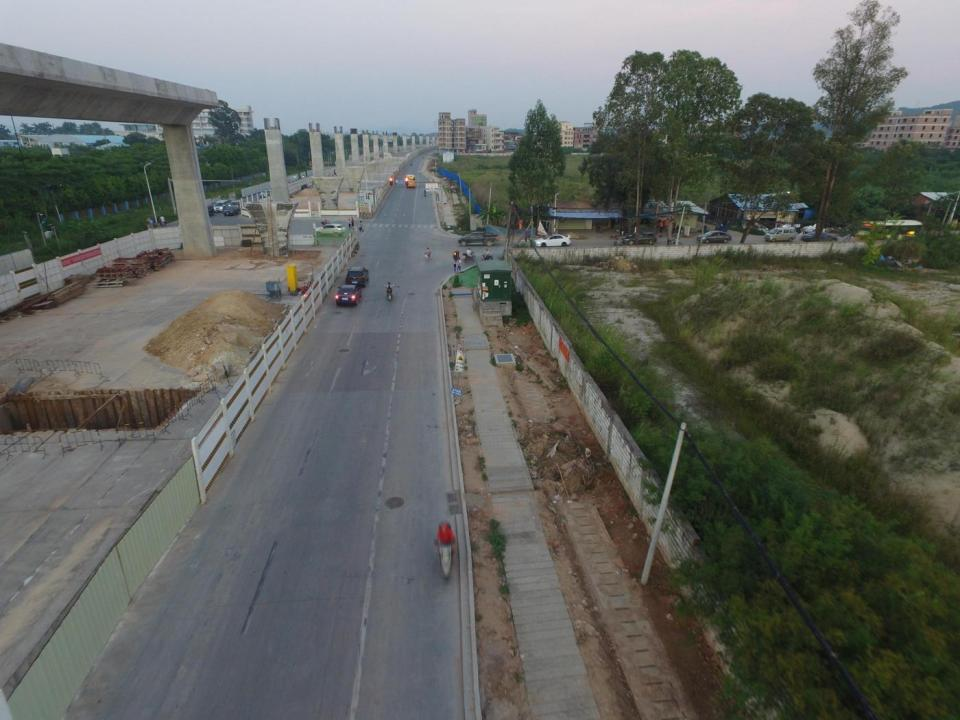bus: (405, 174, 416, 187)
car: (458, 232, 498, 247), (336, 285, 361, 305), (346, 266, 369, 287), (314, 223, 346, 238), (697, 230, 731, 244), (535, 234, 571, 247), (624, 233, 657, 246), (803, 231, 837, 243), (195, 204, 213, 220), (222, 206, 238, 216), (229, 200, 243, 211), (260, 189, 274, 197)
van: (764, 227, 797, 242), (213, 200, 228, 212)
